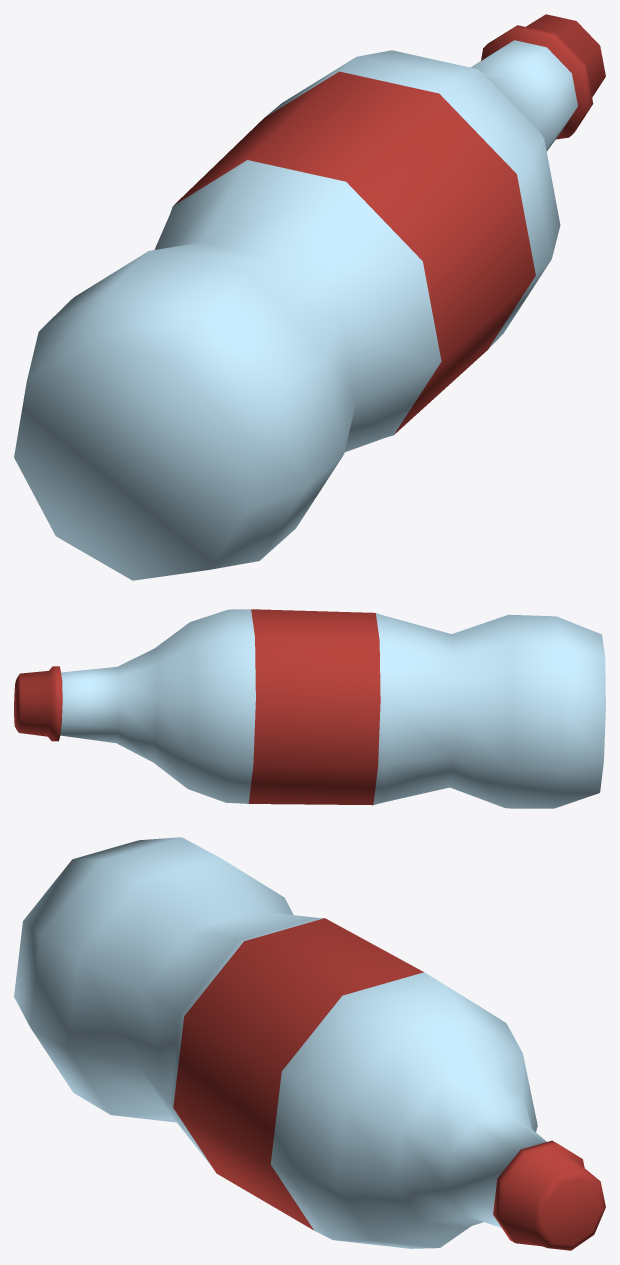
Rendered from plasticBottle.fbx.
3 renders of one model, top to bottom at view 1: azimuth 30°, elevation 25°; view 2: azimuth 150°, elevation 25°; view 3: azimuth 270°, elevation 25°, orthographic. The views are drawn at different scales.
Parts seen in each view (by area): view 1: Cylinder; view 2: Cylinder; view 3: Cylinder.
Part boxes in pixels (x1,y1,x2,y2): Cylinder: (14,14,605,580); Cylinder: (14,609,605,808); Cylinder: (14,837,605,1250).
Bounding box in the file's own units: 84.52 × 31.97 × 63.51.
